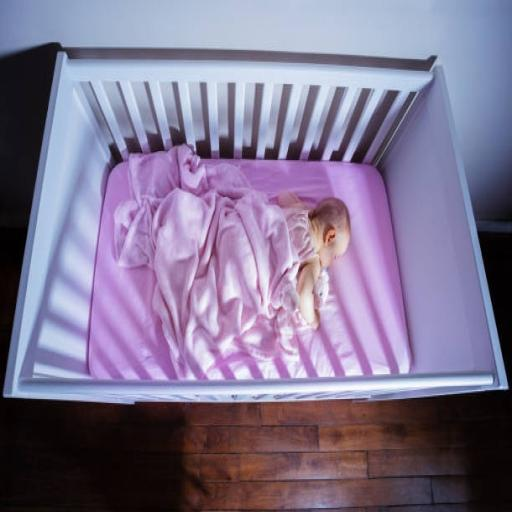baby: (278, 192, 350, 328)
crib: (5, 53, 507, 403)
